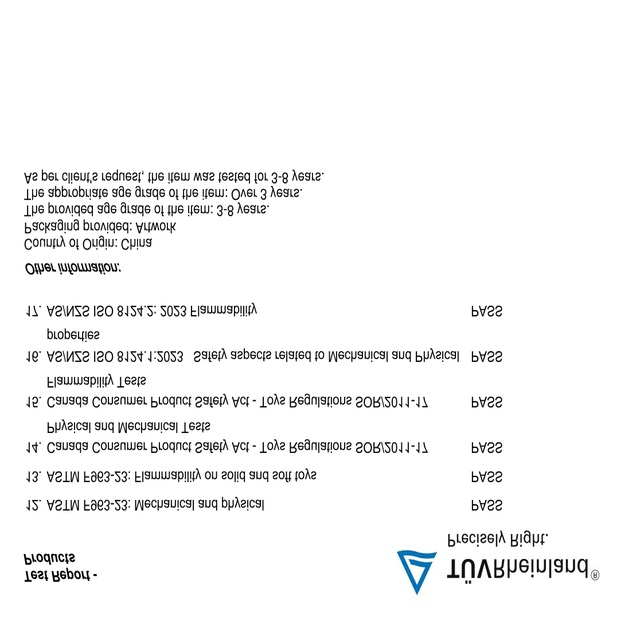tuv_rheinland: (394, 547, 604, 600)
